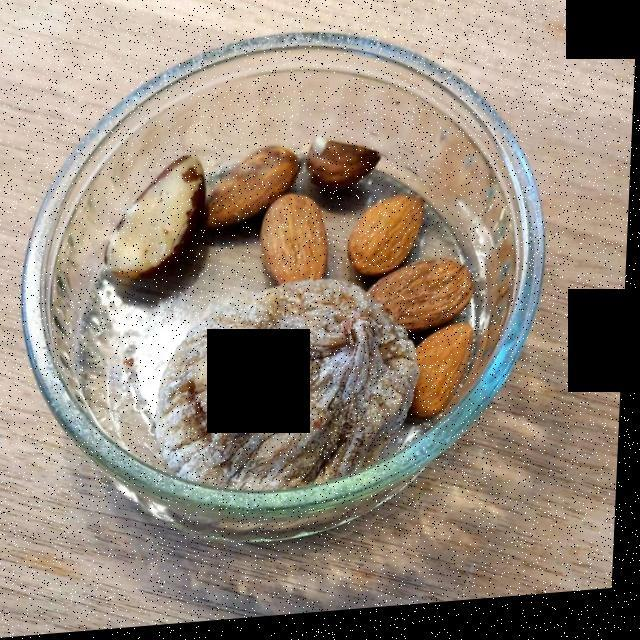almonds: (215, 155, 485, 394)
fig-dried: (164, 294, 422, 499)
nut: (105, 161, 205, 289)
